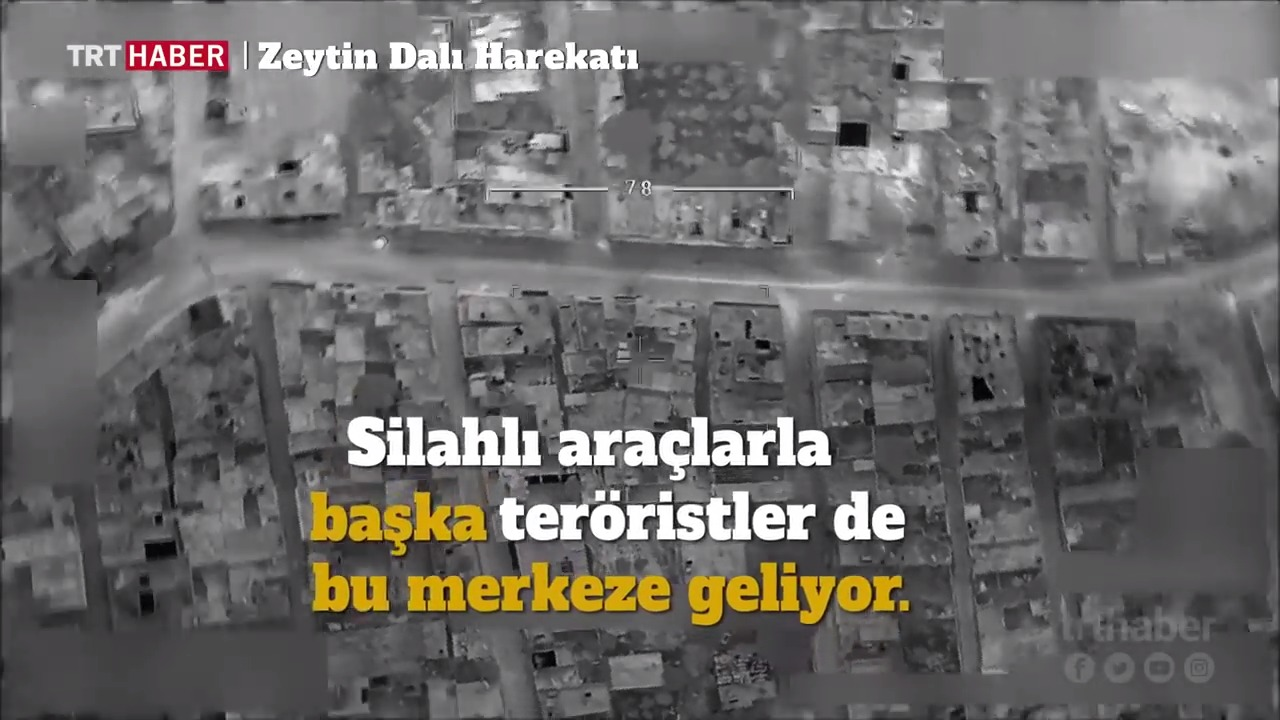bina: (942, 302, 1036, 419), (441, 319, 559, 359), (456, 283, 559, 325)
